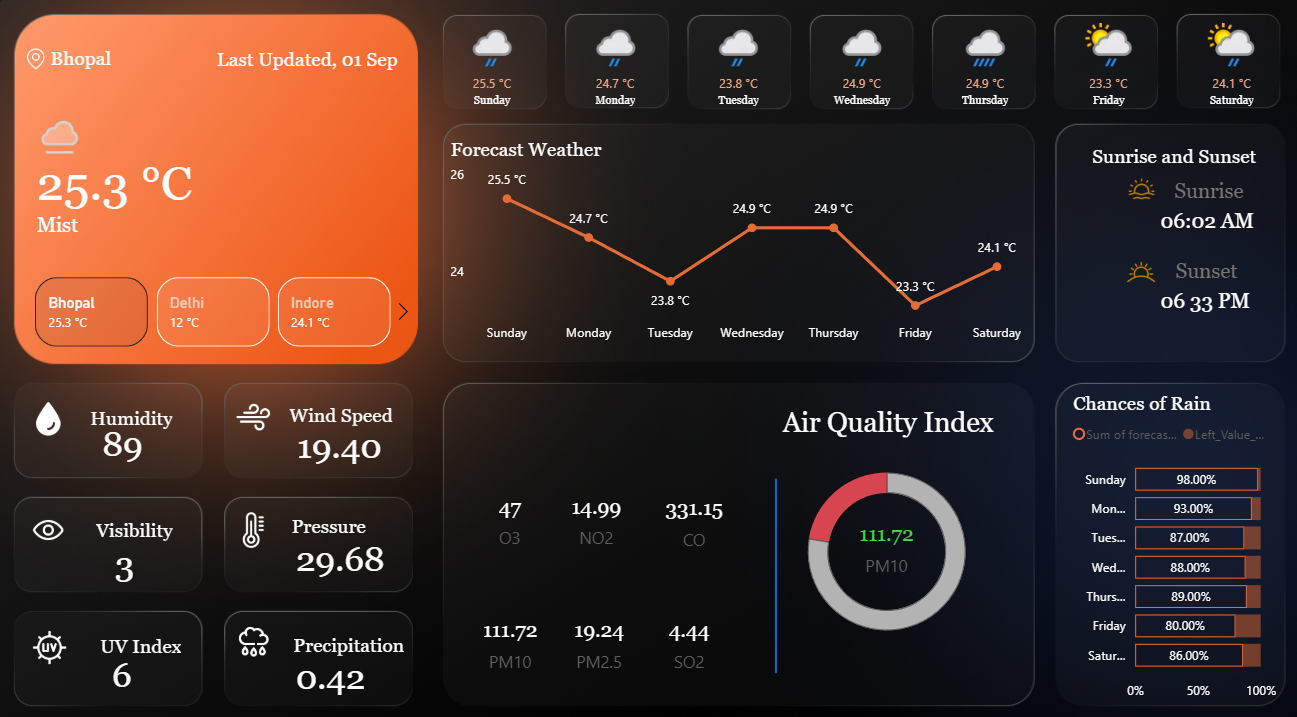

The page's visual inventory and layout, read from the dashboard file:
{"tool":"powerbi","page":{"name":"Page 1","canvas":[1280,720],"ordinal":0},"visuals":[{"type":"advancedSlicerVisual","fields":{"Values":["Location.location.name"]},"box":[21,270.9,395.1,77.4],"z":0},{"type":"shape","box":[46.7,145.5,171.5,79.6],"z":1000},{"type":"shape","box":[46.6,196.2,324.2,58.2],"z":2000},{"type":"shape","box":[207.2,41.2,188,49.4],"z":3000},{"type":"shape","box":[60.4,43.9,102.9,42.5],"z":4000},{"type":"image","box":[22,50.8,49.4,30.2],"z":5000},{"type":"cardVisual","fields":{"Data":["Min(Current.current.condition.icon)"]},"box":[0,94.8,111.4,79.8],"z":6000},{"type":"image","box":[36.4,497.9,44.3,44.3],"z":7000},{"type":"image","box":[233.9,388.8,44.3,45.8],"z":8000},{"type":"image","box":[36.4,390.4,44.3,44.3],"z":9000},{"type":"image","box":[233.9,497.9,44.3,44.3],"z":10000},{"type":"image","box":[233.9,605.4,45,45],"z":11000},{"type":"image","box":[37.9,611.7,44.3,44.3],"z":12000},{"type":"shape","box":[77.5,387.3,101.2,50.6],"z":13000},{"type":"shape","box":[85.4,607,101.2,50.6],"z":14000},{"type":"shape","box":[289.3,605.4,112.2,50.6],"z":15000},{"type":"shape","box":[276.6,491.6,88.5,50.6],"z":16000},{"type":"shape","box":[93.3,494.7,85.4,50.6],"z":17000},{"type":"shape","box":[289.3,384.1,101.2,50.6],"z":18000},{"type":"card","fields":{"Values":["Sum(Current.current.humidity)"]},"box":[85.4,399.9,88.5,74.3],"z":19000},{"type":"card","fields":{"Values":["Sum(Current.current.wind_kph)"]},"box":[286,405.7,106.4,64.8],"z":20000},{"type":"card","fields":{"Values":["Sum(Current.current.vis_km)"]},"box":[96.4,520,71.1,64.8],"z":21000},{"type":"card","fields":{"Values":["Sum(Current.current.pressure_in)"]},"box":[289.3,509,101.2,75.9],"z":22000},{"type":"card","fields":{"Values":["Sum(Current.current.uv)"]},"box":[90.1,633.8,77.5,52.2],"z":23000},{"type":"card","fields":{"Values":["Sum(Current.current.precip_mm)"]},"box":[289.3,633.8,82.2,55.3],"z":24000},{"type":"advancedSlicerVisual","fields":{"Values":["Forecast_Day.Day_Name"]},"box":[429.9,17.4,828.3,124.9],"z":25000},{"type":"lineChart","title":"Forecast Weather","fields":{"Y":["Sum(Forecast_Day.forecast.forecastday.day.avgtemp_c)"],"Category":["Forecast_Day.Day_Name"]},"box":[441,142.3,569,205.5],"z":26000},{"type":"shape","box":[1052.7,134.4,183.4,50.6],"z":27000},{"type":"shape","box":[1131.7,196,102.7,52.2],"z":28000},{"type":"shape","box":[1146,241.8,90.1,56.9],"z":29000},{"type":"shape","box":[1131.7,276.6,104.3,44.3],"z":30000},{"type":"shape","box":[1144.4,173.9,75.9,37.9],"z":31000},{"type":"image","box":[1081.2,173.9,64.8,34.8],"z":32000},{"type":"image","box":[1084.3,248.2,56.9,45.8],"z":33000},{"type":"hundredPercentStackedBarChart","title":"Chances of Rain","fields":{"Category":["Forecast_Day.Day_Name"],"Y":["Sum(Forecast_Day.forecast.forecastday.day.daily_chance_of_rain)","_Measures.Left_Value_Rain"]},"box":[1042.6,387.4,206.2,306],"z":34000},{"type":"shape","box":[734.9,390.8,267.7,49.9],"z":35000},{"type":"card","fields":{"Values":["Sum(Current.current.air_quality.co)"]},"box":[628.5,465.6,106.4,89.8],"z":36000},{"type":"card","fields":{"Values":["Sum(Current.current.air_quality.o3)"]},"box":[457.3,463.9,93.1,89.8],"z":37000},{"type":"card","fields":{"Values":["Sum(Current.current.air_quality.so2)"]},"box":[628.5,583.6,96.4,89.8],"z":38000},{"type":"card","fields":{"Values":["Sum(Current.current.air_quality.pm2_5)"]},"box":[538.7,583.6,101.4,89.8],"z":39000},{"type":"card","fields":{"Values":["Sum(Forecast_Day.forecast.forecastday.day.air_quality.pm10)"]},"box":[460.6,583.6,86.5,89.8],"z":40000},{"type":"card","fields":{"Values":["Sum(Current.current.air_quality.no2)"]},"box":[547.1,467.2,81.5,84.8],"z":41000},{"type":"shape","box":[734.9,470.6,51.5,187.9],"z":42000},{"type":"card","fields":{"Values":["Sum(Forecast_Day.forecast.forecastday.day.air_quality.pm10)"]},"box":[824.2,491.3,86.5,89.5],"z":43000},{"type":"donutChart","fields":{"Y":["_Measures.Left_Value_PM10","Sum(Forecast_Day.forecast.forecastday.day.air_quality.pm10)"]},"box":[767.5,439.6,200.6,204.1],"z":43001}]}

Visuals, with their boxes in screenshot pixels (x1, y1, x2, y2), scaled from the page's 1280x720 canvas onto the 1297x717 screenshot:
advancedSlicerVisual - Location.location.name: x1=21, y1=270, x2=422, y2=347
shape: x1=47, y1=145, x2=221, y2=224
shape: x1=47, y1=195, x2=376, y2=253
shape: x1=210, y1=41, x2=400, y2=90
shape: x1=61, y1=44, x2=165, y2=86
image: x1=22, y1=51, x2=72, y2=81
cardVisual - Min(Current.current.condition.icon): x1=0, y1=94, x2=113, y2=174
image: x1=37, y1=496, x2=82, y2=540
image: x1=237, y1=387, x2=282, y2=433
image: x1=37, y1=389, x2=82, y2=433
image: x1=237, y1=496, x2=282, y2=540
image: x1=237, y1=603, x2=283, y2=648
image: x1=38, y1=609, x2=83, y2=653
shape: x1=79, y1=386, x2=181, y2=436
shape: x1=87, y1=604, x2=189, y2=655
shape: x1=293, y1=603, x2=407, y2=653
shape: x1=280, y1=490, x2=370, y2=540
shape: x1=95, y1=493, x2=181, y2=543
shape: x1=293, y1=382, x2=396, y2=433
card - Sum(Current.current.humidity): x1=87, y1=398, x2=176, y2=472
card - Sum(Current.current.wind_kph): x1=290, y1=404, x2=398, y2=469
card - Sum(Current.current.vis_km): x1=98, y1=518, x2=170, y2=582
card - Sum(Current.current.pressure_in): x1=293, y1=507, x2=396, y2=582
card - Sum(Current.current.uv): x1=91, y1=631, x2=170, y2=683
card - Sum(Current.current.precip_mm): x1=293, y1=631, x2=376, y2=686
advancedSlicerVisual - Forecast_Day.Day_Name: x1=436, y1=17, x2=1275, y2=142
"Forecast Weather" lineChart: x1=447, y1=142, x2=1023, y2=346
shape: x1=1067, y1=134, x2=1253, y2=184
shape: x1=1147, y1=195, x2=1251, y2=247
shape: x1=1161, y1=241, x2=1253, y2=297
shape: x1=1147, y1=275, x2=1252, y2=320
shape: x1=1160, y1=173, x2=1237, y2=211
image: x1=1096, y1=173, x2=1161, y2=208
image: x1=1099, y1=247, x2=1156, y2=293
"Chances of Rain" hundredPercentStackedBarChart: x1=1056, y1=386, x2=1265, y2=691
shape: x1=745, y1=389, x2=1016, y2=439
card - Sum(Current.current.air_quality.co): x1=637, y1=464, x2=745, y2=553
card - Sum(Current.current.air_quality.o3): x1=463, y1=462, x2=558, y2=551
card - Sum(Current.current.air_quality.so2): x1=637, y1=581, x2=735, y2=671
card - Sum(Current.current.air_quality.pm2_5): x1=546, y1=581, x2=649, y2=671
card - Sum(Forecast_Day.forecast.forecastday.day.air_quality.pm10): x1=467, y1=581, x2=554, y2=671
card - Sum(Current.current.air_quality.no2): x1=554, y1=465, x2=637, y2=550
shape: x1=745, y1=469, x2=797, y2=656
card - Sum(Forecast_Day.forecast.forecastday.day.air_quality.pm10): x1=835, y1=489, x2=923, y2=578
donutChart - _Measures.Left_Value_PM10 x Sum(Forecast_Day.forecast.forecastday.day.air_quality.pm10): x1=778, y1=438, x2=981, y2=641
